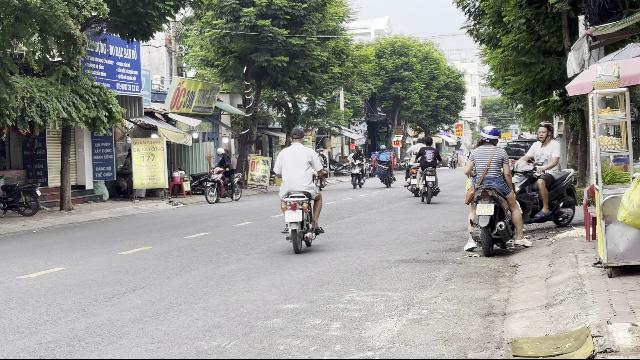helmet: (478, 125, 500, 145)
licenseplate: (285, 210, 303, 221), (476, 205, 494, 215)
motorcyclist: (461, 124, 525, 256), (272, 126, 326, 252)
nohelmet: (289, 127, 305, 145)
